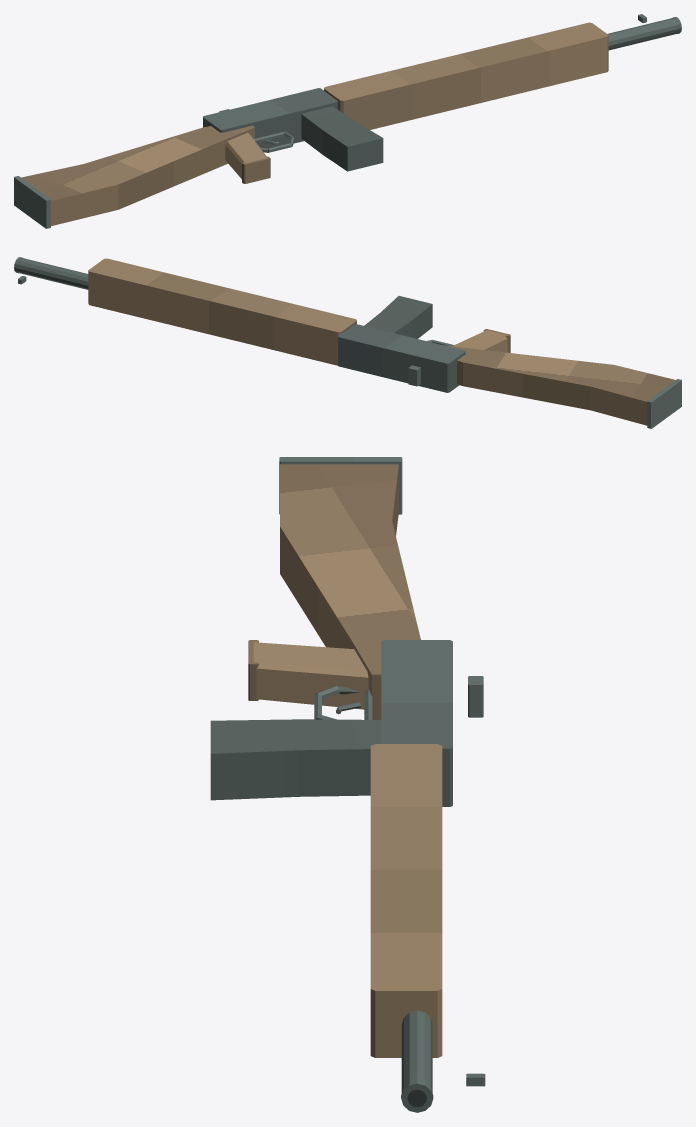
File: weapon-bar.glb
The picture shows the model from 3 angles, top to bottom: view 1: azimuth 30°, elevation 25°; view 2: azimuth 150°, elevation 25°; view 3: azimuth 270°, elevation 25°; orthographic projection. The views are drawn at different scales.
Visible parts, largest first — view 1: weapon-bar/independent-forehandguard, weapon-bar/shaped-solid-butt, weapon-bar/full-depth-receiver, weapon-bar/distinct-detachable-magazine, weapon-bar/round-barrel, weapon-bar/butt-end-plate, weapon-bar/distinct-eight-sided-pistol-grip, weapon-bar/distinct-eight-sided-pistol-grip-heel; view 2: weapon-bar/independent-forehandguard, weapon-bar/shaped-solid-butt, weapon-bar/full-depth-receiver, weapon-bar/distinct-detachable-magazine, weapon-bar/round-barrel, weapon-bar/butt-end-plate, weapon-bar/distinct-eight-sided-pistol-grip; view 3: weapon-bar/shaped-solid-butt, weapon-bar/independent-forehandguard, weapon-bar/distinct-detachable-magazine, weapon-bar/full-depth-receiver, weapon-bar/distinct-eight-sided-pistol-grip, weapon-bar/round-barrel, weapon-bar/butt-end-plate.
Boxes of the visible parts, <box> form: weapon-bar/independent-forehandguard: <box>324,22,608,129</box>; weapon-bar/shaped-solid-butt: <box>21,125,254,226</box>; weapon-bar/full-depth-receiver: <box>203,88,337,148</box>; weapon-bar/distinct-detachable-magazine: <box>301,106,383,171</box>; weapon-bar/round-barrel: <box>607,18,678,50</box>; weapon-bar/butt-end-plate: <box>14,176,50,228</box>; weapon-bar/distinct-eight-sided-pistol-grip: <box>225,133,266,178</box>; weapon-bar/distinct-eight-sided-pistol-grip-heel: <box>242,156,270,183</box>; weapon-bar/independent-forehandguard: <box>88,258,356,365</box>; weapon-bar/shaped-solid-butt: <box>444,345,675,425</box>; weapon-bar/full-depth-receiver: <box>338,324,465,392</box>; weapon-bar/distinct-detachable-magazine: <box>364,296,432,338</box>; weapon-bar/round-barrel: <box>16,258,88,289</box>; weapon-bar/butt-end-plate: <box>647,379,681,428</box>; weapon-bar/distinct-eight-sided-pistol-grip: <box>452,330,507,352</box>; weapon-bar/shaped-solid-butt: <box>280,464,420,719</box>; weapon-bar/independent-forehandguard: <box>370,744,442,1057</box>; weapon-bar/distinct-detachable-magazine: <box>210,719,381,800</box>; weapon-bar/full-depth-receiver: <box>381,640,452,806</box>; weapon-bar/distinct-eight-sided-pistol-grip: <box>253,642,368,709</box>; weapon-bar/round-barrel: <box>401,1010,432,1092</box>; weapon-bar/butt-end-plate: <box>279,457,402,514</box>.
Size of the model in its own units: 1.22 by 0.062 by 0.23.
Materials: 3 (3 with a texture image).
